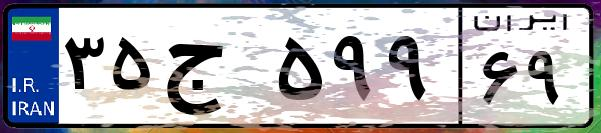3: (57, 26, 110, 100)
5: (270, 28, 330, 110), (110, 28, 158, 98)
6: (475, 38, 525, 113)
9: (385, 28, 445, 110), (330, 28, 385, 110), (525, 38, 570, 115)
ج: (158, 20, 270, 120)
